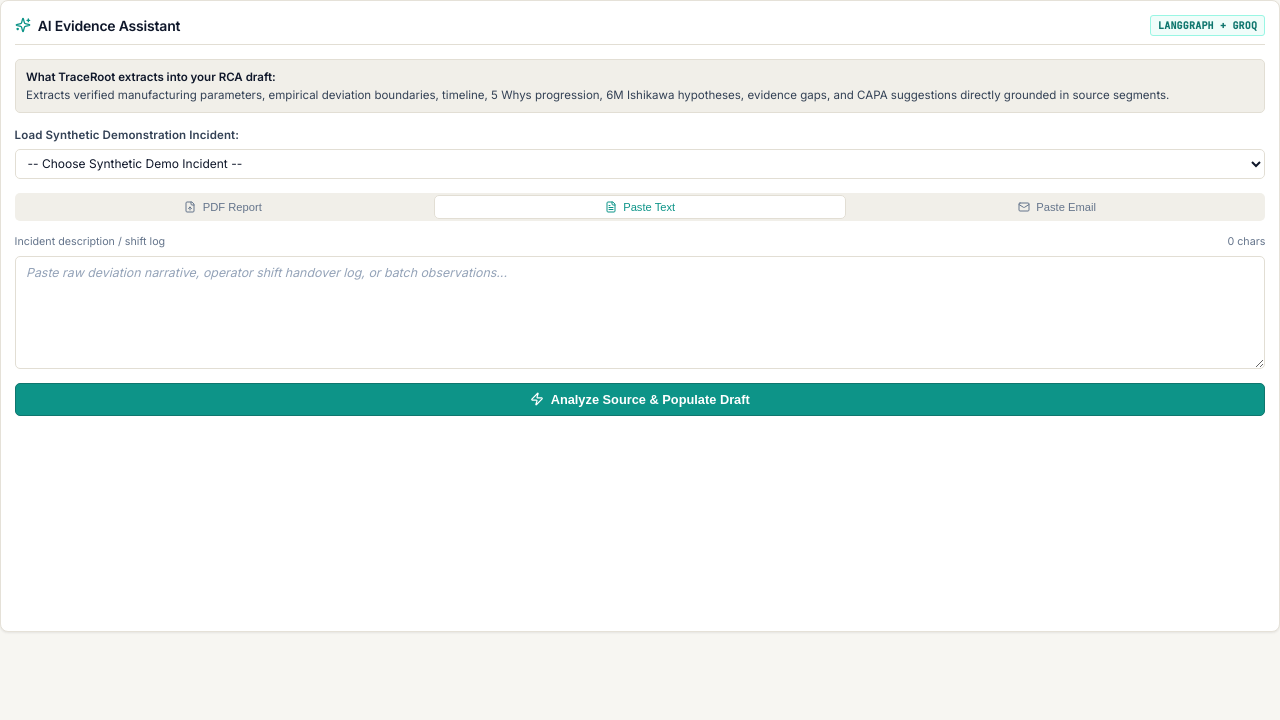
TraceRoot Frontend RTL Verification Pass › B1 & G1: AI Assistant Panel includes synthetic demo presets with [SYNTHETIC TEST DATA] badge
Expected: the tab "PDF Report" is shown, [17, 195, 430, 219]
Expected: the tab "Paste Text" is shown, [434, 195, 846, 219]
// Switch to Paste Email tab
Click the tab "Paste Email": coordinates (1057, 207) [850, 195, 1263, 219]
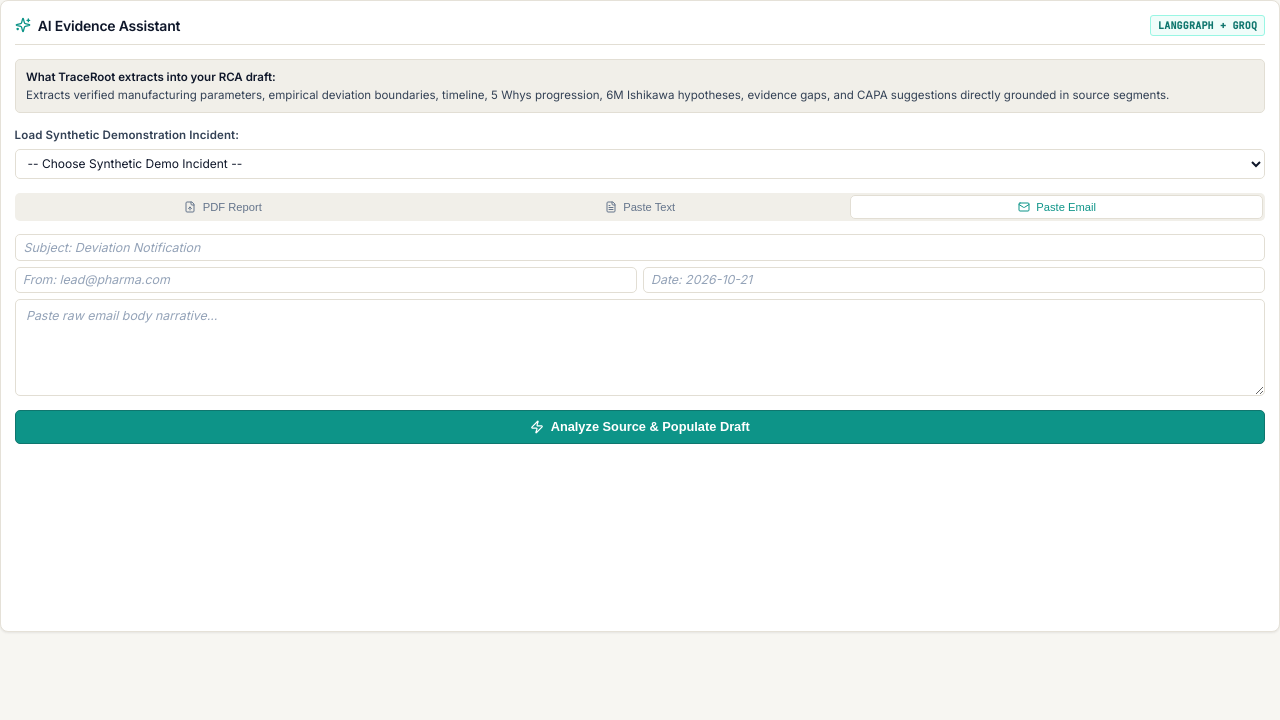
Result: the field with placeholder "From: lead@pharma.com" is shown at [15, 267, 637, 293]
